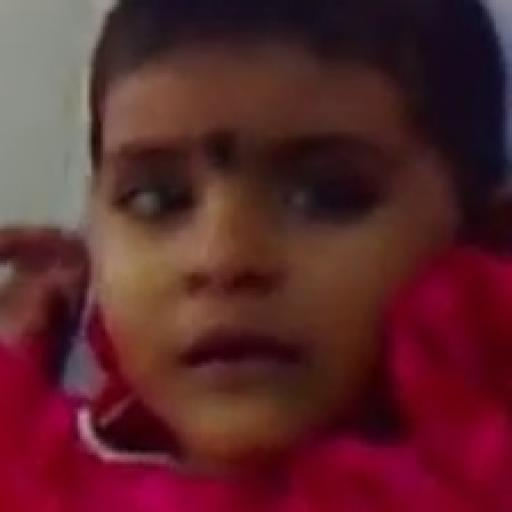Autism: (68, 16, 460, 498)
